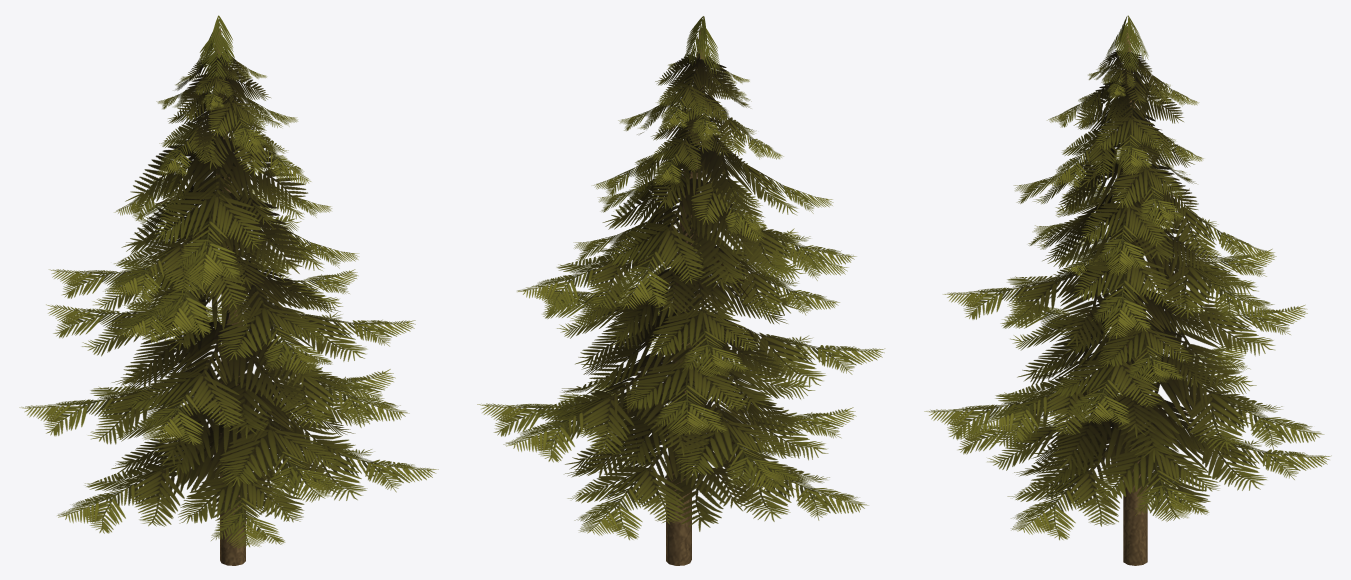
Rendered from tree_2.glb.
3 renders of one model, left to right at view 1: azimuth 30°, elevation 25°; view 2: azimuth 150°, elevation 25°; view 3: azimuth 270°, elevation 25°, orthographic. The views are drawn at different scales.
Parts seen in each view (by area): view 1: Leaves/001, Trank.001; view 2: Leaves/001, Trank.001; view 3: Leaves/001, Trank.001.
Boxes of the visible parts, bbox=[...] form: Leaves/001: bbox=[19, 15, 438, 548]; Trank.001: bbox=[214, 29, 245, 565]; Leaves/001: bbox=[477, 16, 885, 540]; Trank.001: bbox=[666, 28, 705, 565]; Leaves/001: bbox=[924, 15, 1331, 540]; Trank.001: bbox=[1121, 28, 1147, 565].
Size of the model in its own units: 0.0651 by 0.0923 by 0.0651.
2 materials, 2 textured.
